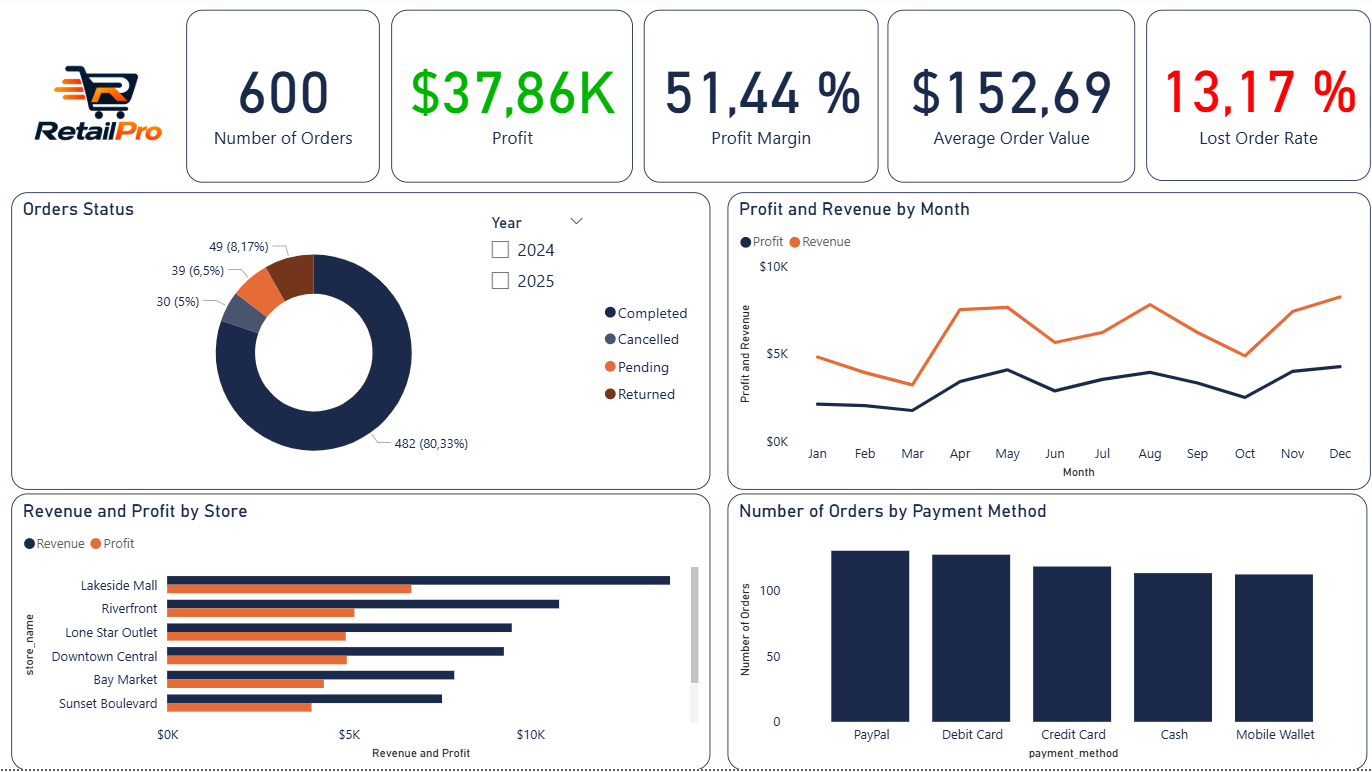

What the dashboard file says about the page in this screenshot:
{"tool":"powerbi","page":{"name":"Orders Overview","canvas":[1280,720],"ordinal":0},"visuals":[{"type":"card","fields":{"Values":["orders.Number of Orders"]},"box":[172.9,12.3,179.8,160.5],"z":0},{"type":"donutChart","title":"Orders Status","fields":{"Y":["orders.Completed","orders.Cancelled","orders.Pending","orders.Returned"]},"box":[11,182.5,650.4,277.2],"z":1000},{"type":"card","fields":{"Values":["orders.proft"]},"box":[363.6,12.3,225,160.5],"z":2000},{"type":"card","fields":{"Values":["orders.Profit Margin"]},"box":[598.3,12.3,218.2,160.5],"z":3000},{"type":"card","fields":{"Values":["order_items.Average Order Value"]},"box":[826.1,12.3,230.5,160.5],"z":4000},{"type":"lineChart","fields":{"Category":["Calendar.Month"],"Y":["orders.Profit","orders.Revenue"]},"box":[676.5,182.5,598.3,277.2],"z":5000},{"type":"clusteredBarChart","title":"Revenue and Profit by Store","fields":{"Category":["stores.store_name"],"Y":["orders.Revenue","orders.Profit"]},"box":[11,462.4,650.4,258],"z":6000},{"type":"clusteredColumnChart","title":"Number of Orders by Payment Method","fields":{"Y":["orders.Number of Orders"],"Category":["orders.payment_method"]},"box":[676.5,462.4,595.5,258],"z":7000},{"type":"card","fields":{"Values":["orders.Lost Order Rate"]},"box":[1066.2,12.3,208.6,159.2],"z":8000},{"type":"slicer","fields":{"Values":["Calendar.Year"]},"box":[444.6,197.6,111.1,86.4],"z":9000},{"type":"image","box":[11,12.3,161.9,172.9],"z":10000}]}

Visuals, with their boxes in screenshot pixels (x1, y1, x2, y2), scaled from the page's 1280x720 canvas onto the 1372x772 screenshot:
card - orders.Number of Orders: Rect(185, 13, 378, 185)
"Orders Status" donutChart: Rect(12, 196, 709, 493)
card - orders.proft: Rect(390, 13, 631, 185)
card - orders.Profit Margin: Rect(641, 13, 875, 185)
card - order_items.Average Order Value: Rect(885, 13, 1133, 185)
lineChart - Calendar.Month x orders.Profit: Rect(725, 196, 1366, 493)
"Revenue and Profit by Store" clusteredBarChart: Rect(12, 496, 709, 771)
"Number of Orders by Payment Method" clusteredColumnChart: Rect(725, 496, 1363, 771)
card - orders.Lost Order Rate: Rect(1143, 13, 1366, 184)
slicer - Calendar.Year: Rect(477, 212, 596, 305)
image: Rect(12, 13, 185, 199)
